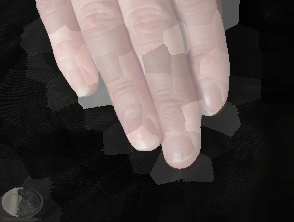Nail_psoriasis: (156, 118, 208, 174), (118, 105, 167, 154), (192, 66, 234, 123), (65, 59, 99, 101)
